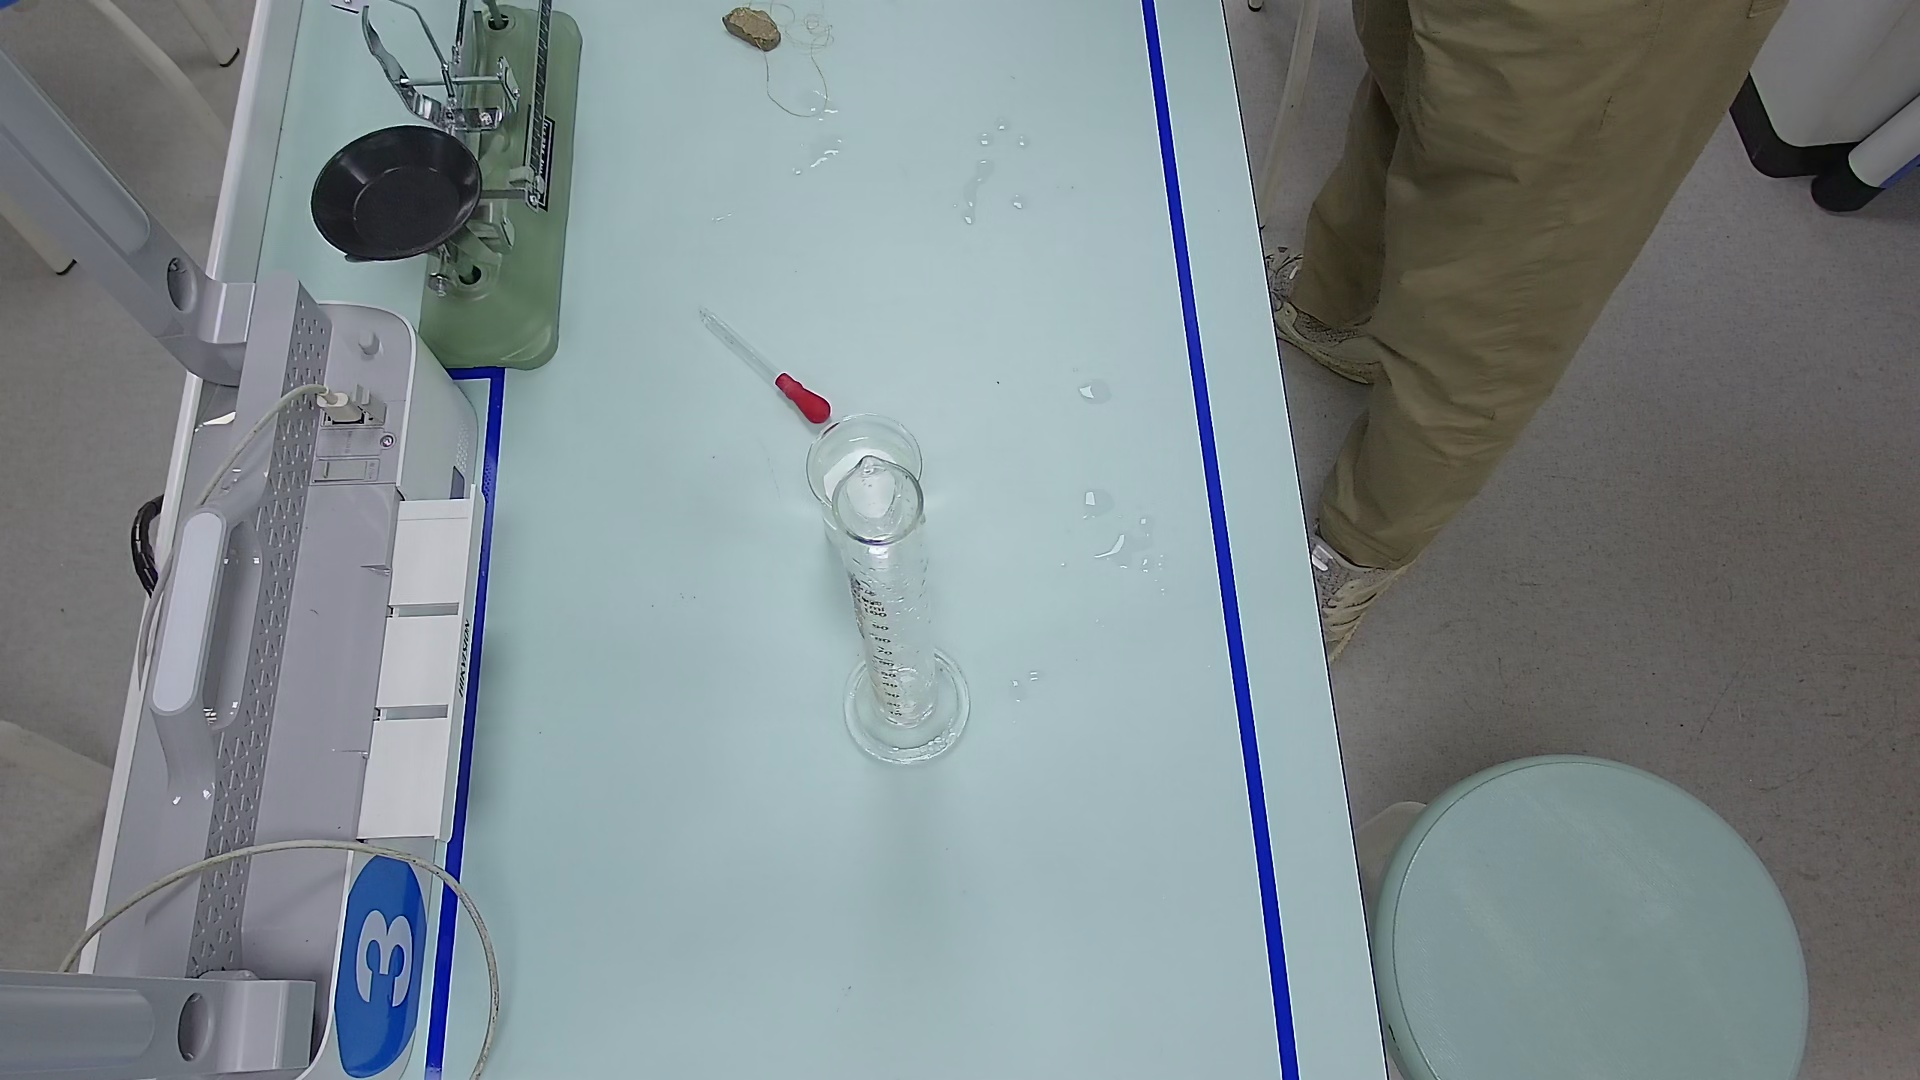bei: (803, 413, 935, 545)
diguan: (698, 299, 832, 431)
diguantou: (773, 367, 827, 425)
liangdi: (845, 654, 959, 777)
liangtong: (836, 459, 980, 793)
shi: (716, 4, 785, 59)
tuo: (284, 121, 487, 264)
